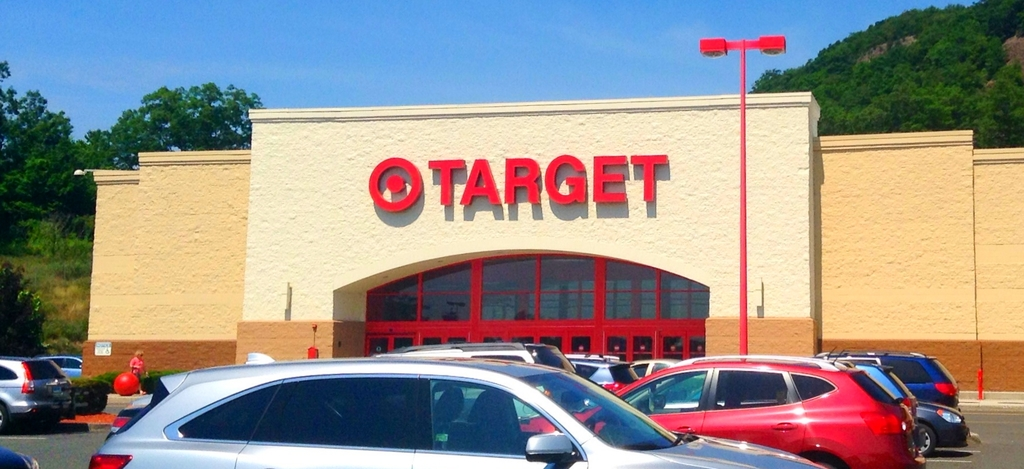Car: (88, 359, 830, 468), (519, 358, 928, 468), (0, 359, 74, 431)
